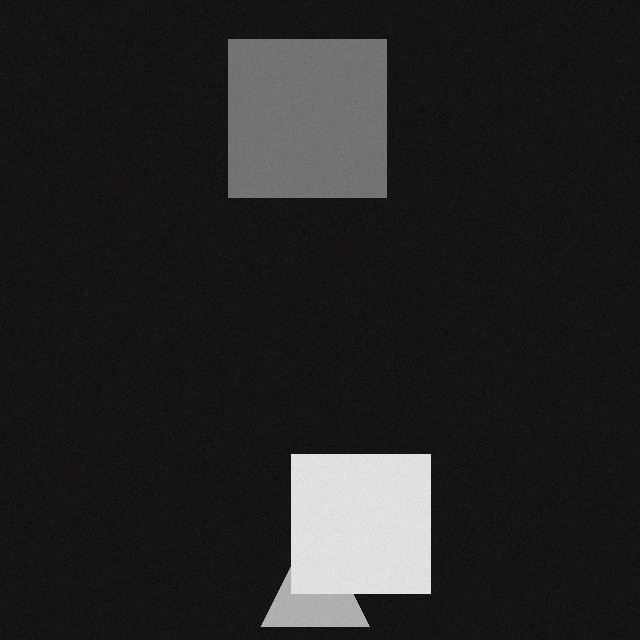square: (215, 45, 373, 203), (278, 460, 417, 599)
triangle: (248, 524, 356, 632)
